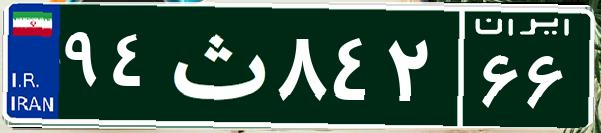2: (385, 28, 445, 110)
4: (330, 28, 385, 110), (110, 28, 158, 105)
6: (475, 38, 525, 113), (525, 38, 570, 115)
8: (273, 28, 330, 110)
9: (57, 26, 110, 107)
ث: (158, 15, 273, 115)
